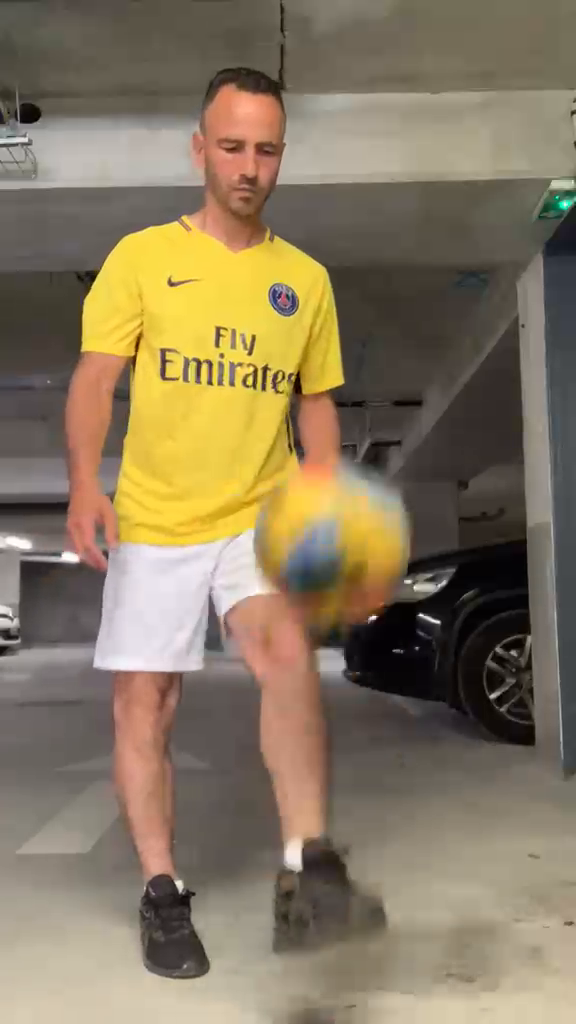ball: (249, 463, 416, 630)
